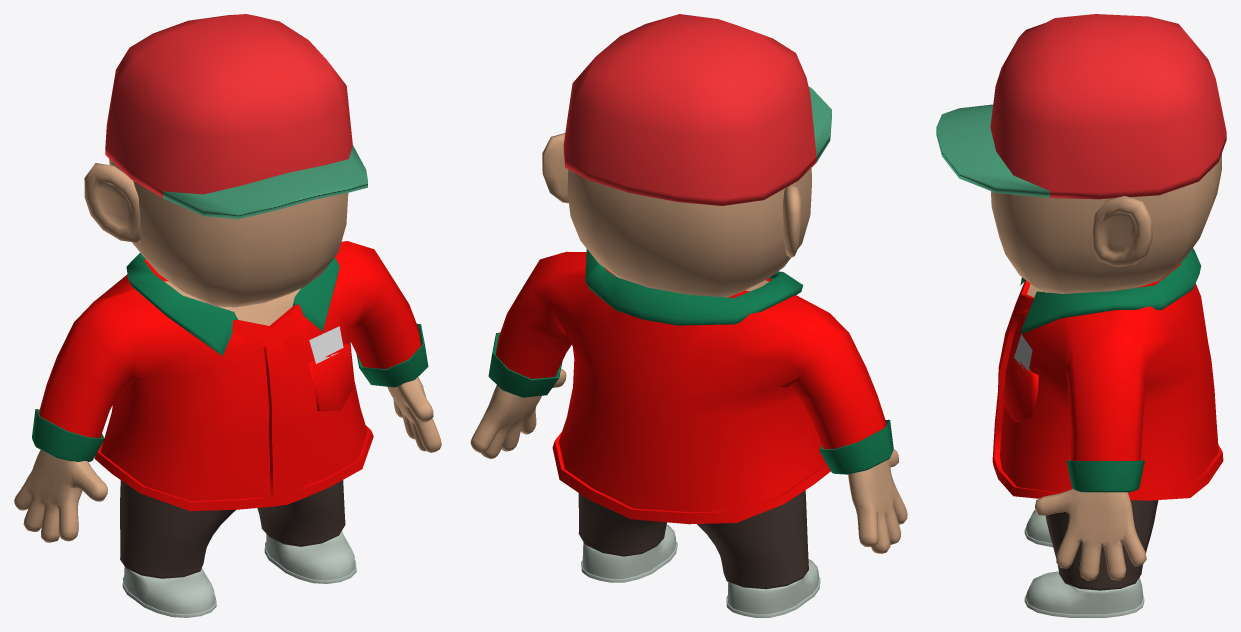
The model's file is Italian.glb.
The picture shows the model from 3 angles, left to right: view 1: azimuth 30°, elevation 25°; view 2: azimuth 150°, elevation 25°; view 3: azimuth 270°, elevation 25°; orthographic projection. The views are drawn at different scales.
Parts seen in each view (by area): view 1: pizzza; view 2: pizzza; view 3: pizzza.
Part boxes in pixels (x1,y1,x2,y2): pizzza: (14,14,441,617); pizzza: (470,14,907,617); pizzza: (936,14,1226,617).
Bounding box in the file's own units: 1.03 × 1.33 × 0.6465.
